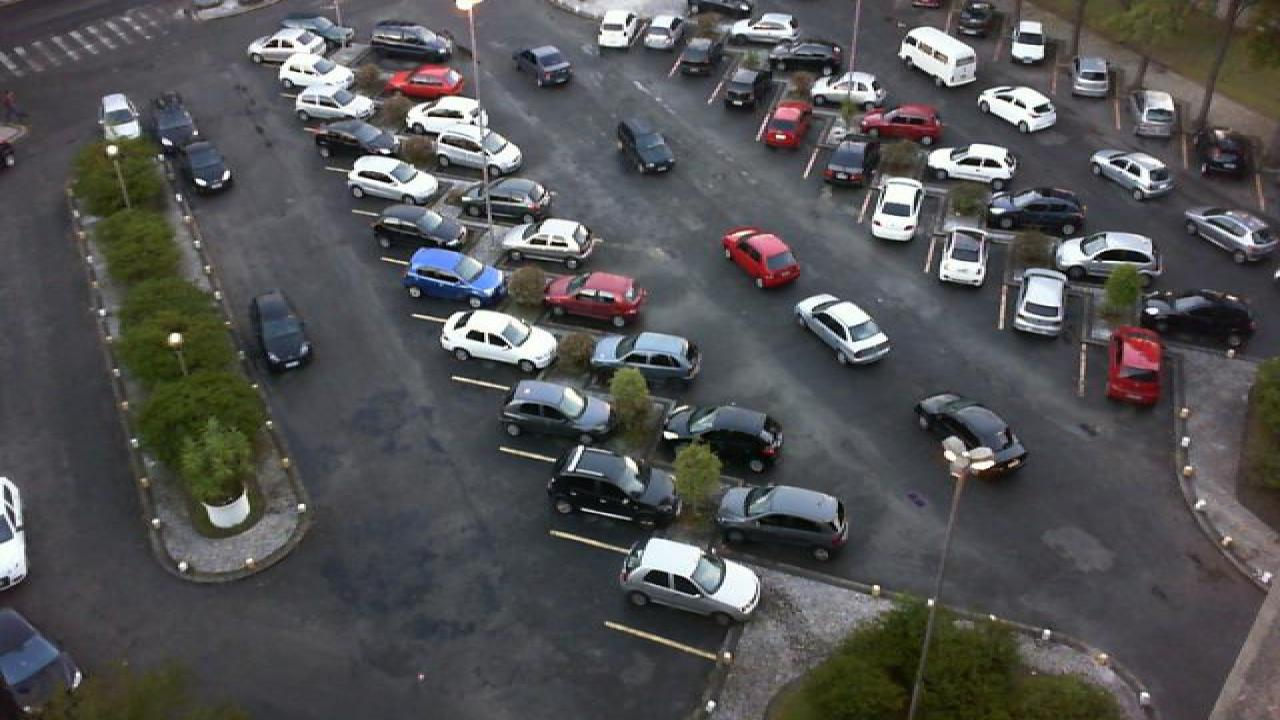Car: (618, 536, 764, 628), (544, 443, 676, 532), (712, 482, 852, 562), (660, 402, 786, 483), (498, 378, 614, 446), (438, 310, 560, 372), (1142, 288, 1258, 350), (400, 245, 508, 307), (1056, 231, 1168, 290), (588, 331, 702, 387), (540, 270, 648, 326), (494, 216, 602, 269), (248, 290, 314, 372), (344, 153, 442, 205), (448, 176, 554, 224), (1104, 325, 1166, 405), (986, 189, 1088, 237), (432, 129, 524, 179), (1010, 266, 1070, 340), (368, 204, 464, 250), (868, 175, 928, 242), (922, 142, 1020, 183), (306, 115, 396, 158), (932, 224, 990, 288), (858, 102, 944, 142), (274, 54, 362, 93), (244, 27, 334, 65), (154, 90, 210, 150), (1192, 126, 1252, 182), (404, 96, 492, 134), (804, 70, 888, 109), (368, 19, 454, 57), (178, 140, 236, 195), (290, 86, 378, 121), (766, 38, 848, 75), (820, 138, 880, 188), (756, 100, 816, 150), (388, 66, 466, 102), (94, 92, 146, 144), (1128, 89, 1180, 138), (728, 10, 798, 44), (280, 11, 356, 42), (720, 64, 768, 110), (668, 34, 718, 77), (634, 6, 676, 54), (1006, 19, 1048, 64), (1068, 56, 1114, 97), (598, 11, 640, 52), (954, 1, 1000, 37), (684, 0, 754, 22)
